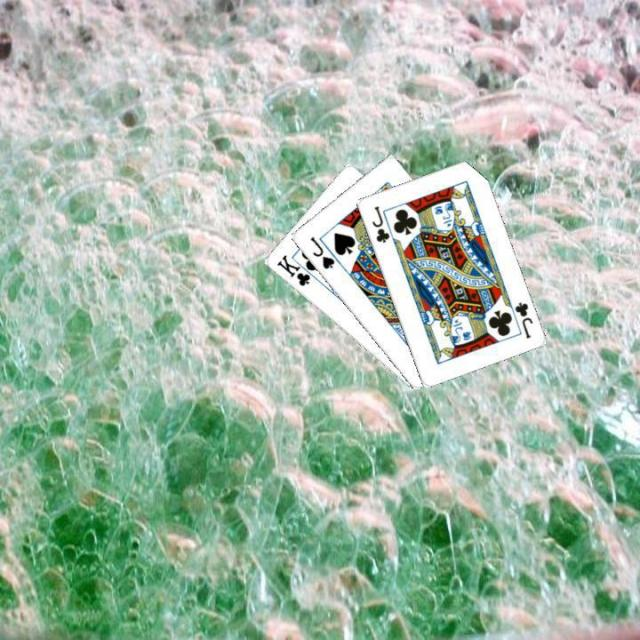JC: (367, 202, 391, 244), (510, 298, 534, 340)
JS: (306, 233, 336, 271)
KC: (273, 251, 319, 288)
